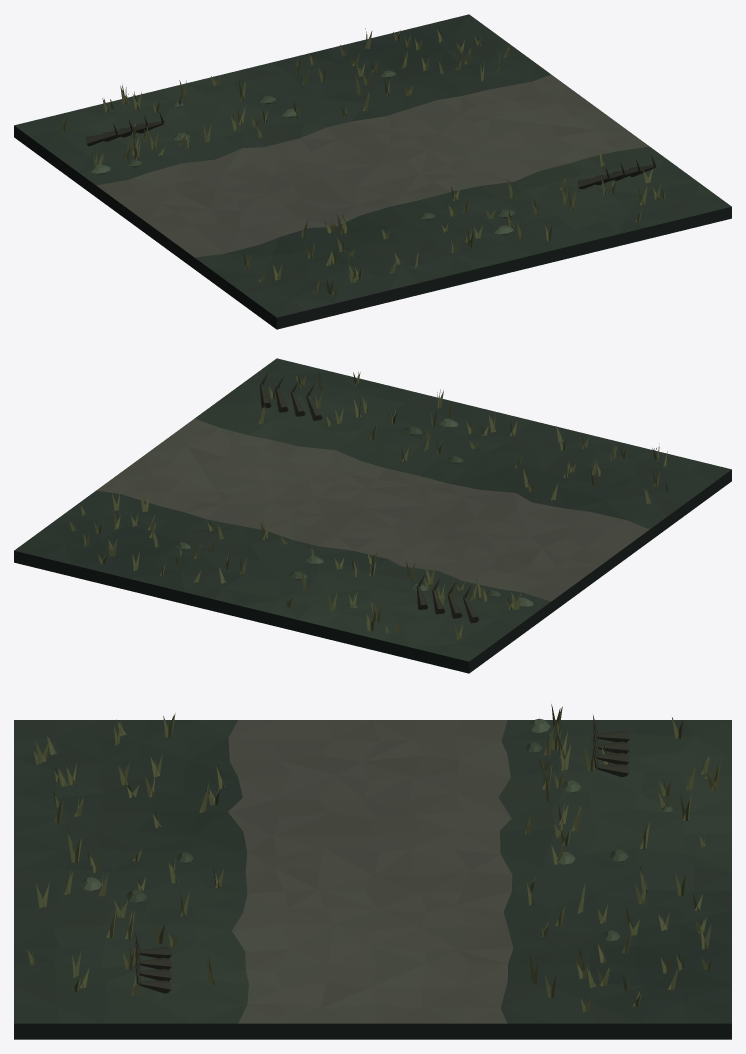
The model's file is CHUNK_dark_canopy_forest__thorn_nest_margin.glb.
3 views of the same model, one above another, from view 1: azimuth 30°, elevation 25°; view 2: azimuth 150°, elevation 25°; view 3: azimuth 270°, elevation 25° (orthographic). The views are drawn at different scales.
Visible parts, largest first — view 1: CHUNK_dark_canopy_forest__thorn_nest_margin; view 2: CHUNK_dark_canopy_forest__thorn_nest_margin; view 3: CHUNK_dark_canopy_forest__thorn_nest_margin.
Part boxes in pixels (x1,y1,x2,y2): CHUNK_dark_canopy_forest__thorn_nest_margin: (14, 14, 731, 329); CHUNK_dark_canopy_forest__thorn_nest_margin: (14, 358, 731, 673); CHUNK_dark_canopy_forest__thorn_nest_margin: (14, 704, 731, 1039).
Size of the model in its own units: 8 by 0.6704 by 8.
